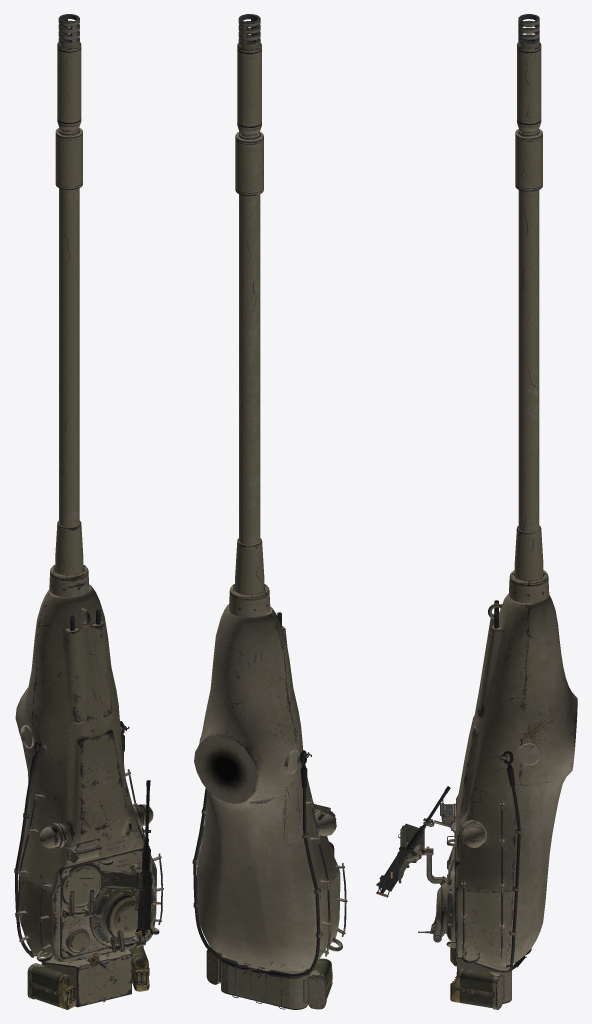
The model's file is Gun_02.glb.
The picture shows the model from 3 angles, left to right: view 1: azimuth 30°, elevation 25°; view 2: azimuth 150°, elevation 25°; view 3: azimuth 270°, elevation 25°; orthographic projection. The views are drawn at different scales.
Visible parts, largest first — view 1: set_0_group_0; view 2: set_0_group_0; view 3: set_0_group_0.
Part boxes in pixels (box(x1,y1,x2,y2)): set_0_group_0: box(14, 14, 163, 1009); set_0_group_0: box(192, 14, 347, 1009); set_0_group_0: box(376, 14, 577, 1009).
Size of the model in its own units: 1.6 by 11.18 by 2.1.
Materials: 1 (1 with a texture image).
